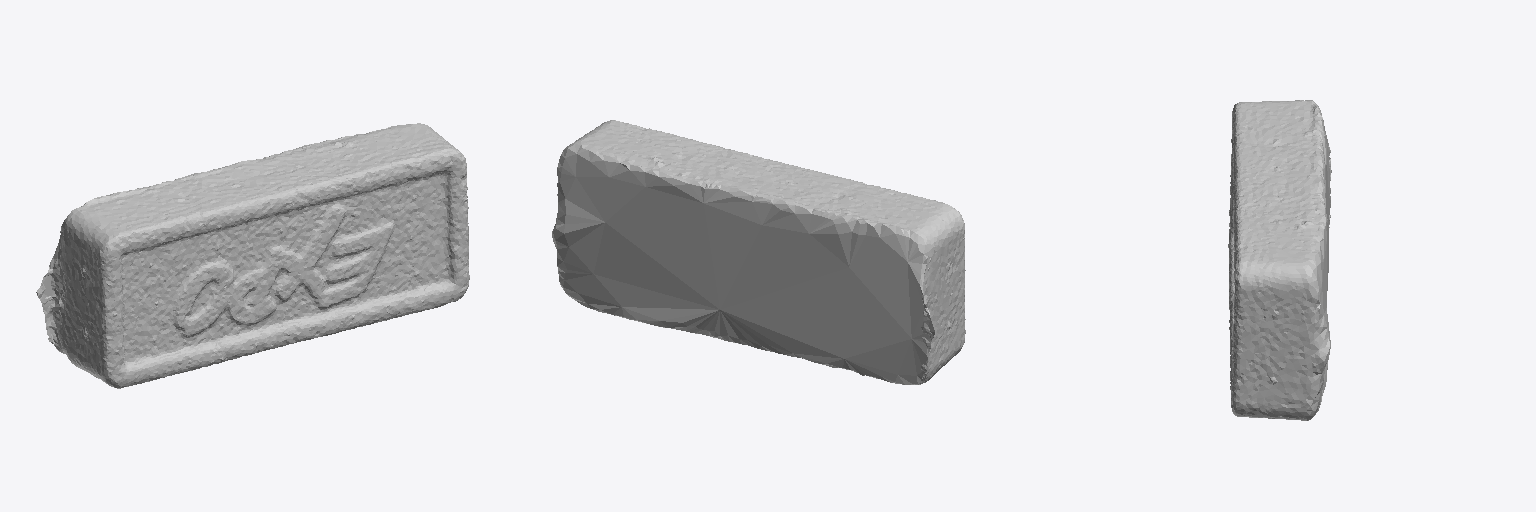
File: eraser_rotated.obj
3 views of the same model, side by side, from view 1: azimuth 30°, elevation 25°; view 2: azimuth 150°, elevation 25°; view 3: azimuth 270°, elevation 25° (orthographic).
Visible parts, largest first — view 1: eraser; view 2: eraser; view 3: eraser.
Part boxes in pixels (x1,y1,x2,y2): eraser: (36, 123, 469, 388); eraser: (552, 120, 965, 384); eraser: (1228, 100, 1331, 420).
Size of the model in its own units: 0.1338 by 0.0532 by 0.0307.